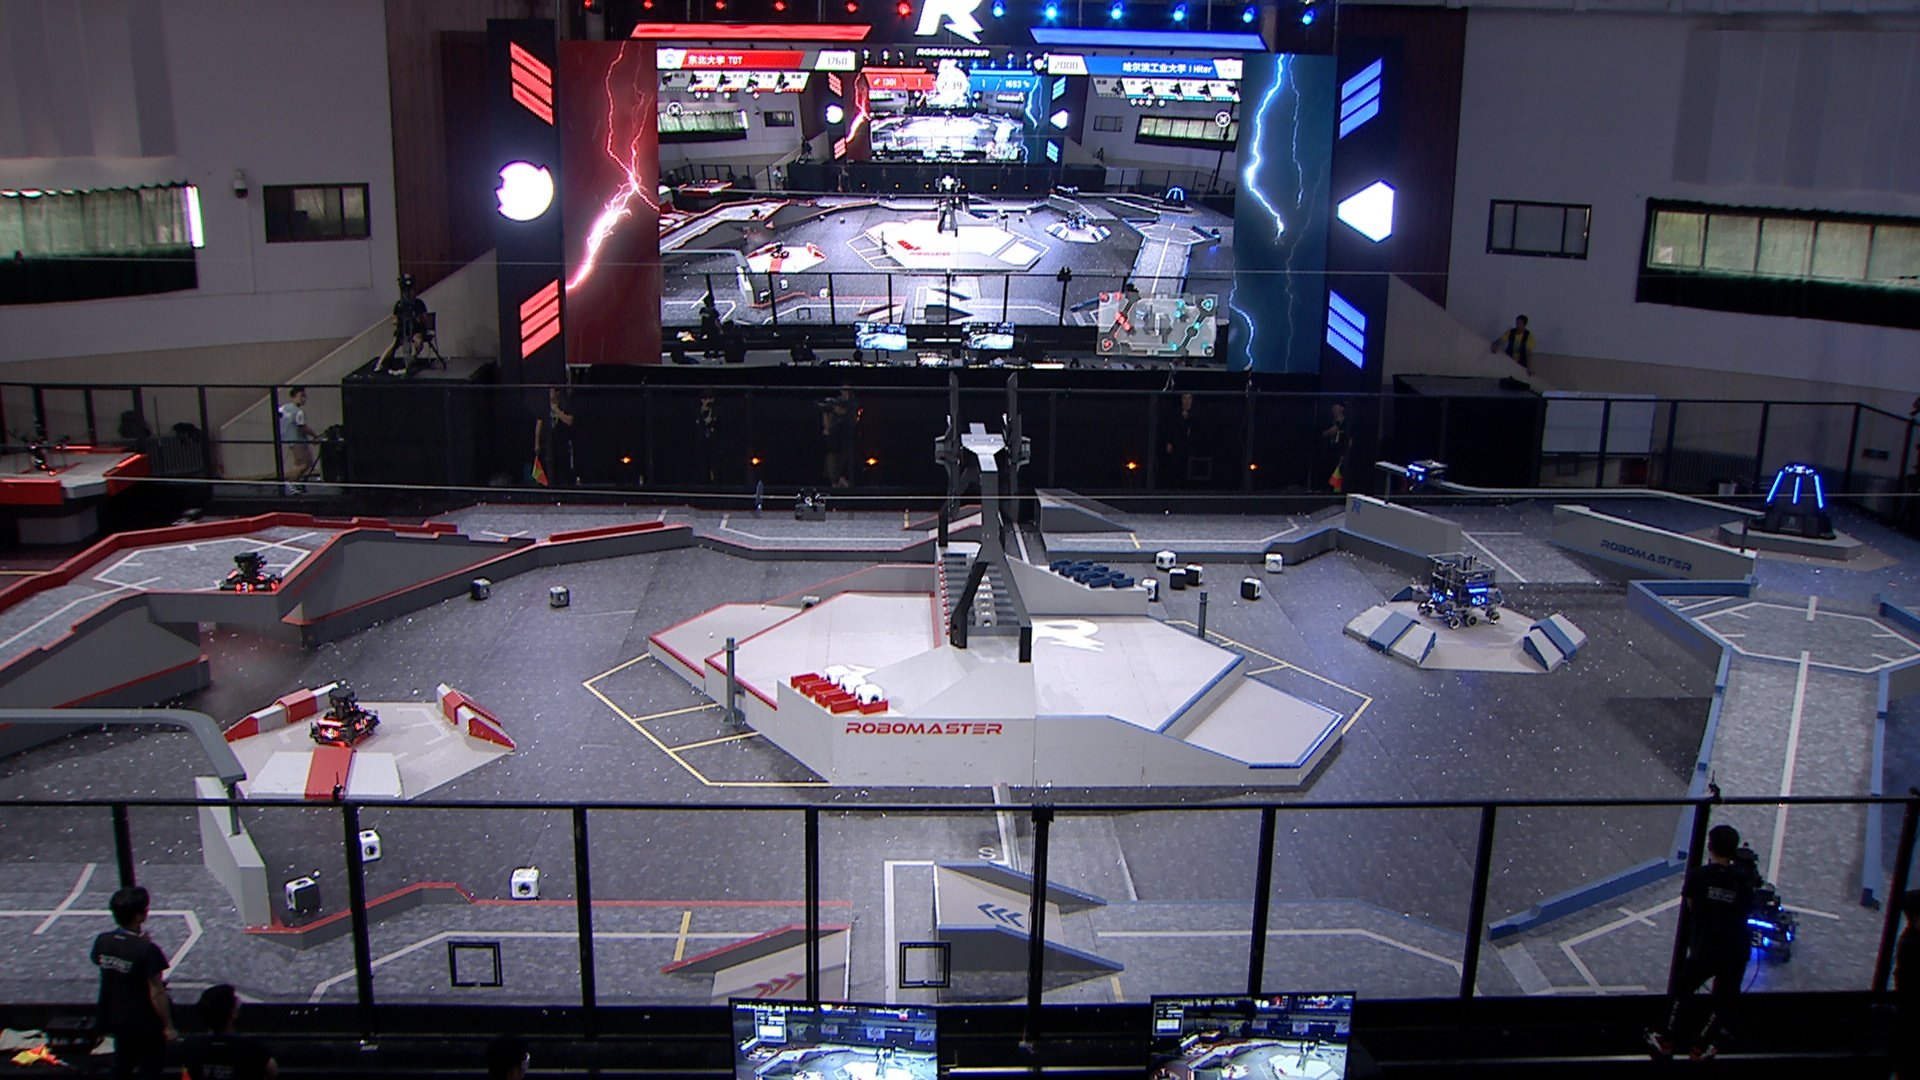armor: (1764, 469, 1788, 502), (1811, 472, 1826, 512), (1746, 927, 1768, 951), (1789, 473, 1804, 506), (1427, 585, 1447, 605), (233, 578, 256, 595), (1466, 591, 1489, 608), (1404, 465, 1424, 484), (1787, 463, 1815, 475), (266, 572, 284, 589), (319, 725, 338, 741), (256, 566, 272, 583), (352, 716, 371, 731)
base: (1741, 458, 1841, 543)
car: (1415, 549, 1506, 633), (1724, 880, 1803, 963), (309, 683, 384, 752), (216, 549, 286, 597)
ignore: (1156, 185, 1185, 210), (1059, 207, 1088, 229), (767, 240, 790, 261)
watcher: (1400, 451, 1449, 501)
